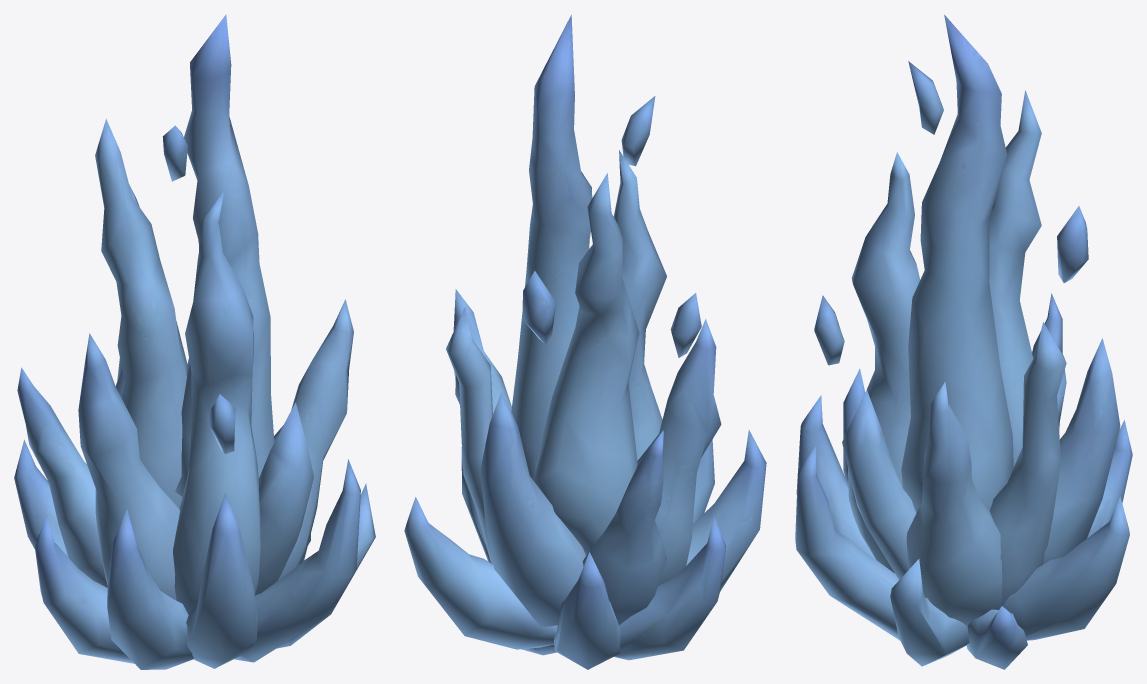
Rendered from rift_flame.glb.
3 renders of one model, left to right at view 1: azimuth 30°, elevation 25°; view 2: azimuth 150°, elevation 25°; view 3: azimuth 270°, elevation 25°, orthographic. The views are drawn at different scales.
Parts seen in each view (by area): view 1: tripo_node_45eb2923-7063-43a9-a87e-bf85aa469635; view 2: tripo_node_45eb2923-7063-43a9-a87e-bf85aa469635; view 3: tripo_node_45eb2923-7063-43a9-a87e-bf85aa469635.
Part boxes in pixels (x1,y1,x2,y2): tripo_node_45eb2923-7063-43a9-a87e-bf85aa469635: [14, 14, 375, 669]; tripo_node_45eb2923-7063-43a9-a87e-bf85aa469635: [404, 14, 766, 669]; tripo_node_45eb2923-7063-43a9-a87e-bf85aa469635: [795, 14, 1132, 669].
Size of the model in its own units: 0.7796 by 1.6 by 0.7671.
Materials: 1 (1 with a texture image).
